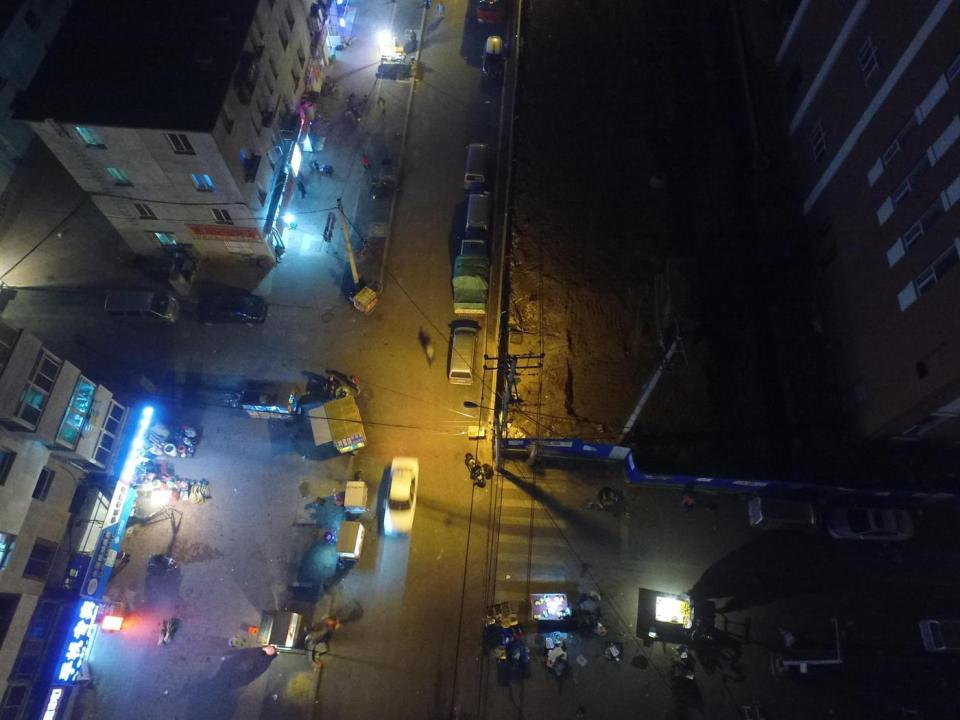car: (826, 505, 914, 541), (383, 457, 419, 537), (195, 296, 267, 326)
truck: (454, 239, 490, 316)
van: (748, 497, 822, 534), (105, 291, 179, 325), (448, 327, 478, 385), (465, 191, 491, 240), (464, 143, 490, 190), (482, 36, 508, 79)
